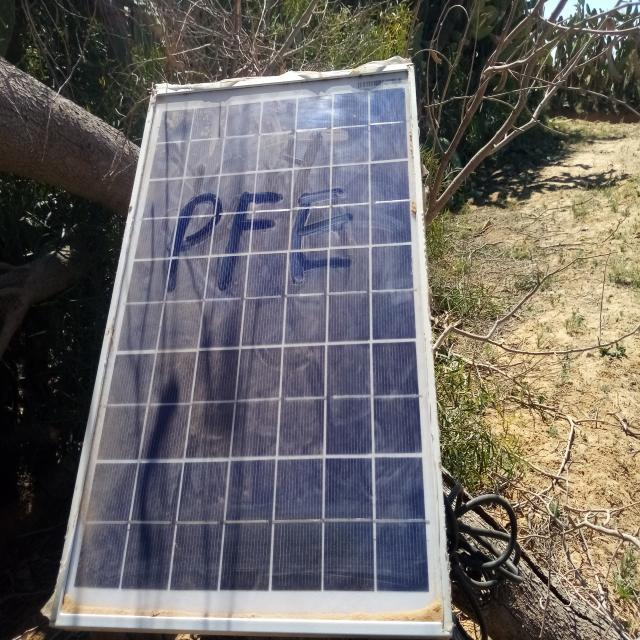faulty: (54, 67, 449, 632)
